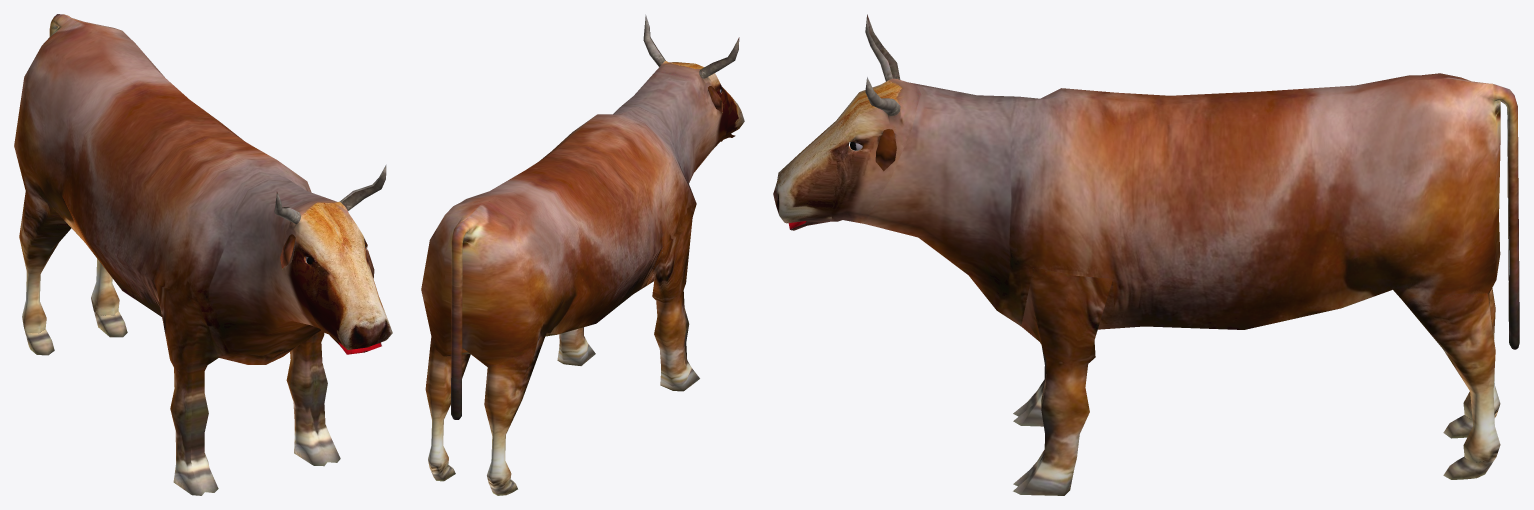
The model's file is bull.obj.
3 views of the same model, side by side, from view 1: azimuth 30°, elevation 25°; view 2: azimuth 150°, elevation 25°; view 3: azimuth 270°, elevation 25° (orthographic). The views are drawn at different scales.
Parts seen in each view (by area): view 1: Bull; view 2: Bull; view 3: Bull.
Boxes of the visible parts, <box> form: Bull: <box>14,14,392,495</box>; Bull: <box>421,14,744,495</box>; Bull: <box>773,14,1519,495</box>.
Bounding box in the file's own units: 2.51 × 5.5 × 9.1.
Materials: 1 (1 with a texture image).
